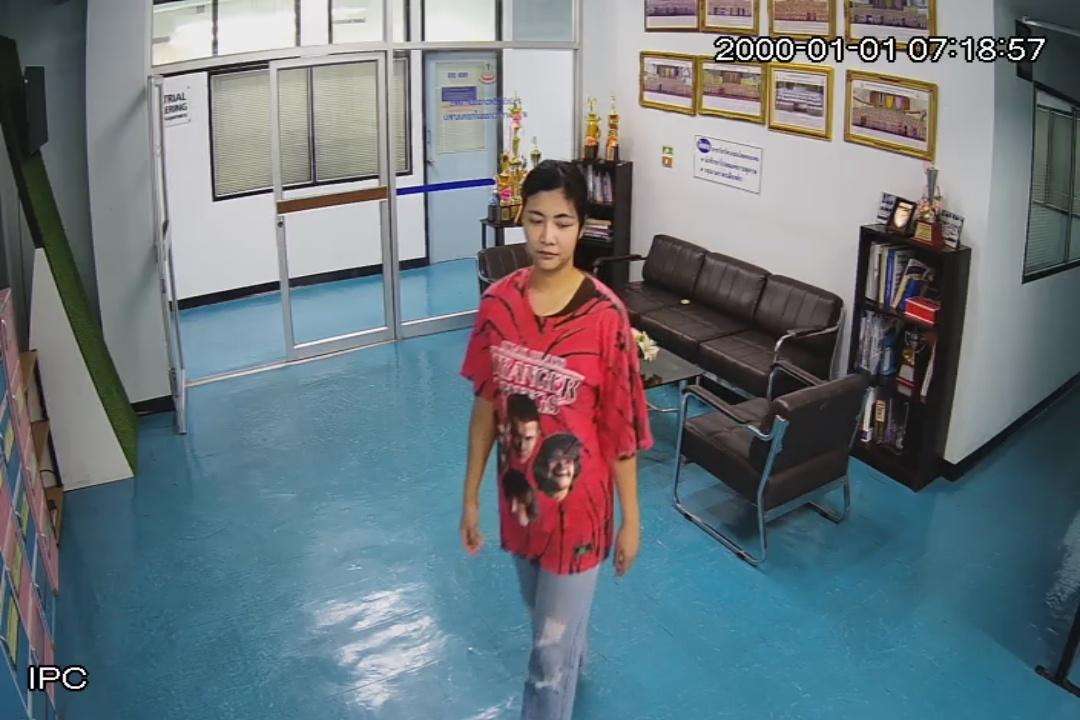normal: (446, 150, 658, 720)
